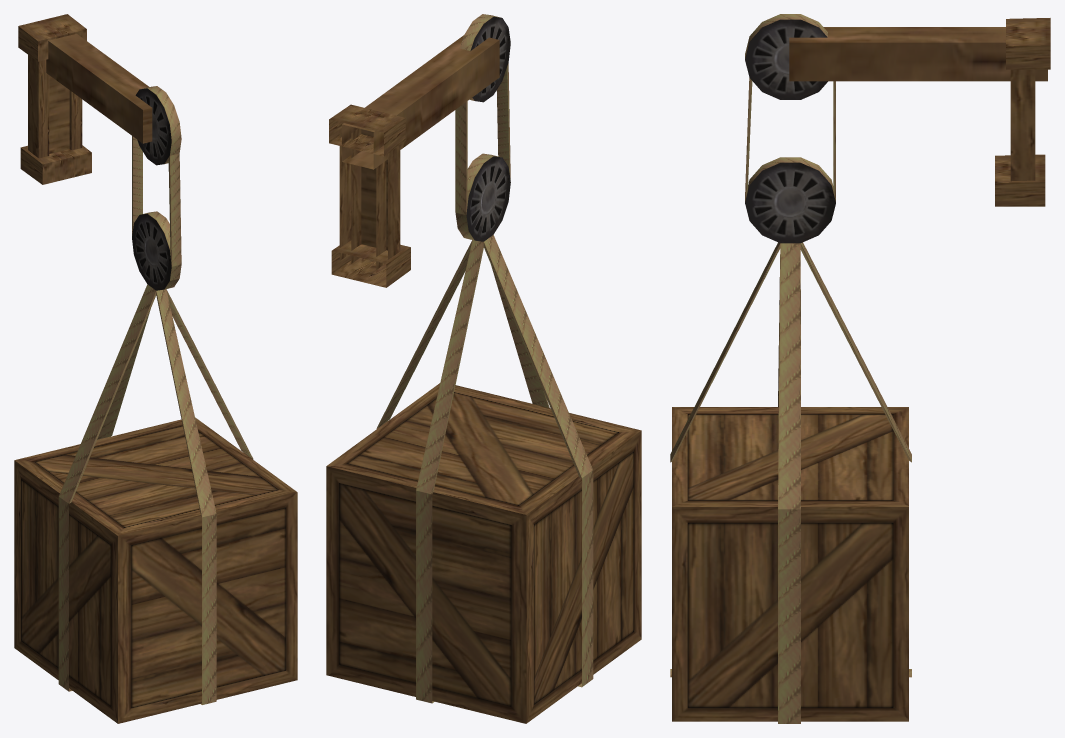
The model's file is fanasty_mod_crate_winch.fbx.
3 views of the same model, side by side, from view 1: azimuth 30°, elevation 25°; view 2: azimuth 150°, elevation 25°; view 3: azimuth 270°, elevation 25° (orthographic). The views are drawn at different scales.
Visible parts, largest first — view 1: crate_winch; view 2: crate_winch; view 3: crate_winch.
Part boxes in pixels (box(x1,y1,x2,y2)): crate_winch: box(14, 14, 297, 723); crate_winch: box(326, 14, 641, 723); crate_winch: box(670, 14, 1050, 723).
Size of the model in its own units: 1.53 by 4.55 by 2.39.
